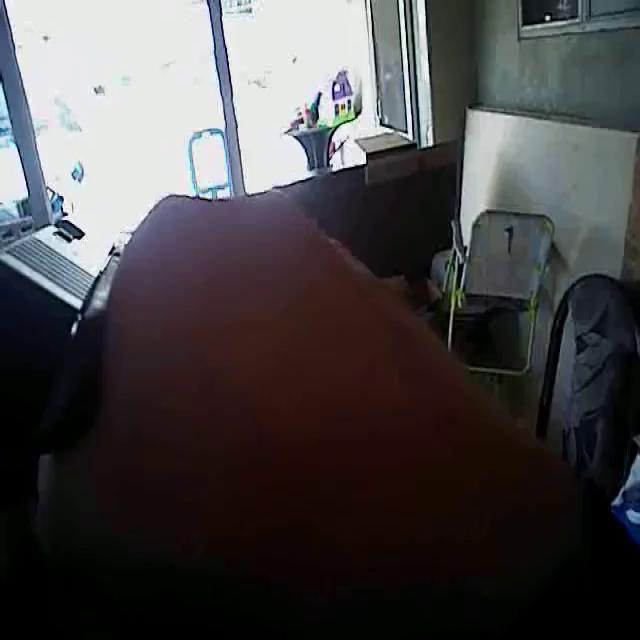gun: (0, 157, 203, 526)
